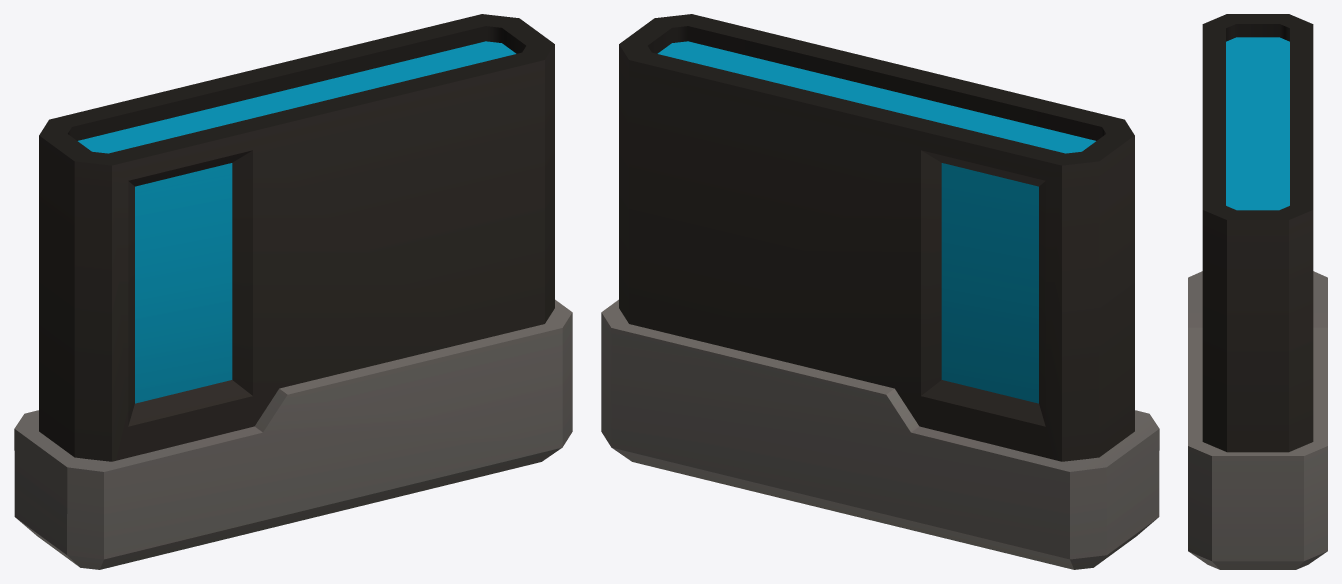
Rendered from SR6_Magazine.fbx.
3 views of the same model, side by side, from view 1: azimuth 30°, elevation 25°; view 2: azimuth 150°, elevation 25°; view 3: azimuth 270°, elevation 25° (orthographic). The views are drawn at different scales.
Parts seen in each view (by area): view 1: SR6_Magazine; view 2: SR6_Magazine; view 3: SR6_Magazine.
Boxes of the visible parts, bbox=[...] form: SR6_Magazine: bbox=[14, 14, 572, 569]; SR6_Magazine: bbox=[601, 14, 1159, 569]; SR6_Magazine: bbox=[1188, 14, 1327, 569].
Size of the model in its own units: 14.33 by 10.94 by 3.91.
